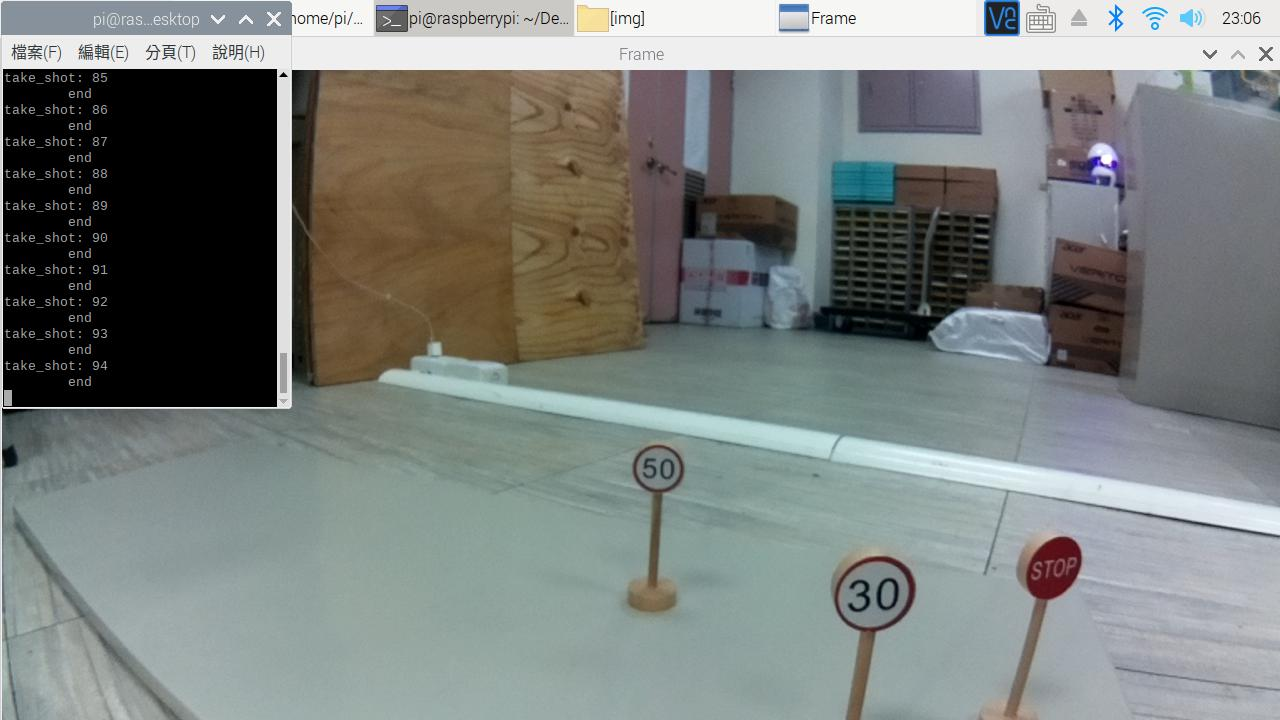Speed30: (821, 549, 930, 636)
Speed50: (629, 437, 696, 497)
Stop: (1001, 525, 1101, 607)
